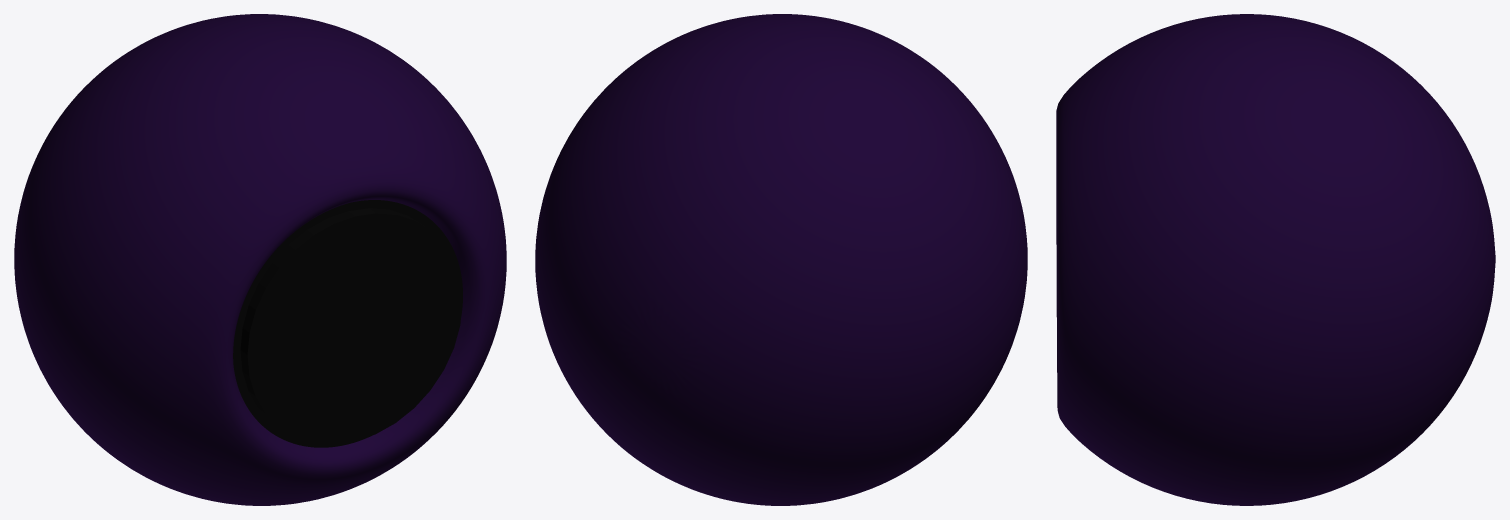
Rendered from 8ball.obj.
3 views of the same model, side by side, from view 1: azimuth 30°, elevation 25°; view 2: azimuth 150°, elevation 25°; view 3: azimuth 270°, elevation 25° (orthographic).
Parts seen in each view (by area): view 1: Sphere, Cylinder_Cylinder.001, Circle_Circle.001; view 2: Sphere; view 3: Sphere.
Part boxes in pixels (<box>): Sphere: <box>14,14,506,505</box>; Cylinder_Cylinder.001: <box>240,208,462,444</box>; Circle_Circle.001: <box>233,200,462,447</box>; Sphere: <box>535,14,1027,505</box>; Sphere: <box>1056,14,1495,505</box>.
Size of the model in its own units: 52.81 by 52.81 by 47.19.
